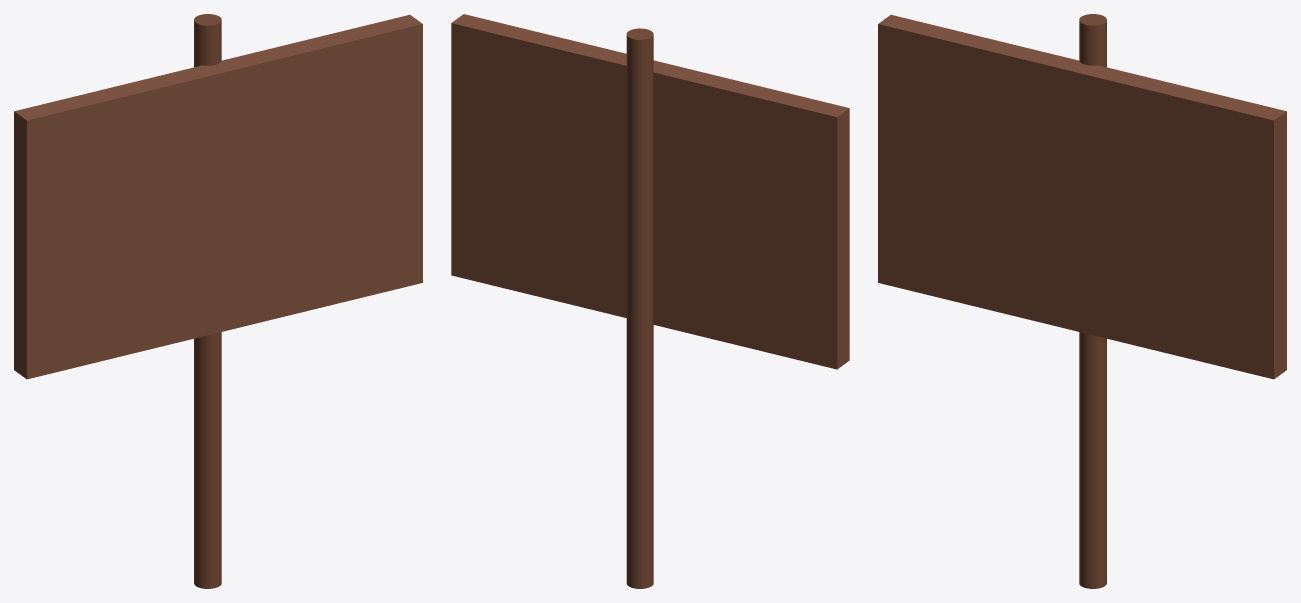
Rendered from signboard.glb.
3 views of the same model, side by side, from view 1: azimuth 30°, elevation 25°; view 2: azimuth 150°, elevation 25°; view 3: azimuth 330°, elevation 25° (orthographic). The views are drawn at different scales.
Visible parts, largest first — view 1: 円柱; view 2: 円柱; view 3: 円柱.
Part boxes in pixels (x1,y1,x2,y2): 円柱: (14,14,422,588); 円柱: (451,14,849,588); 円柱: (878,14,1286,588).
Size of the model in its own units: 3.2 by 4.35 by 0.3358.
